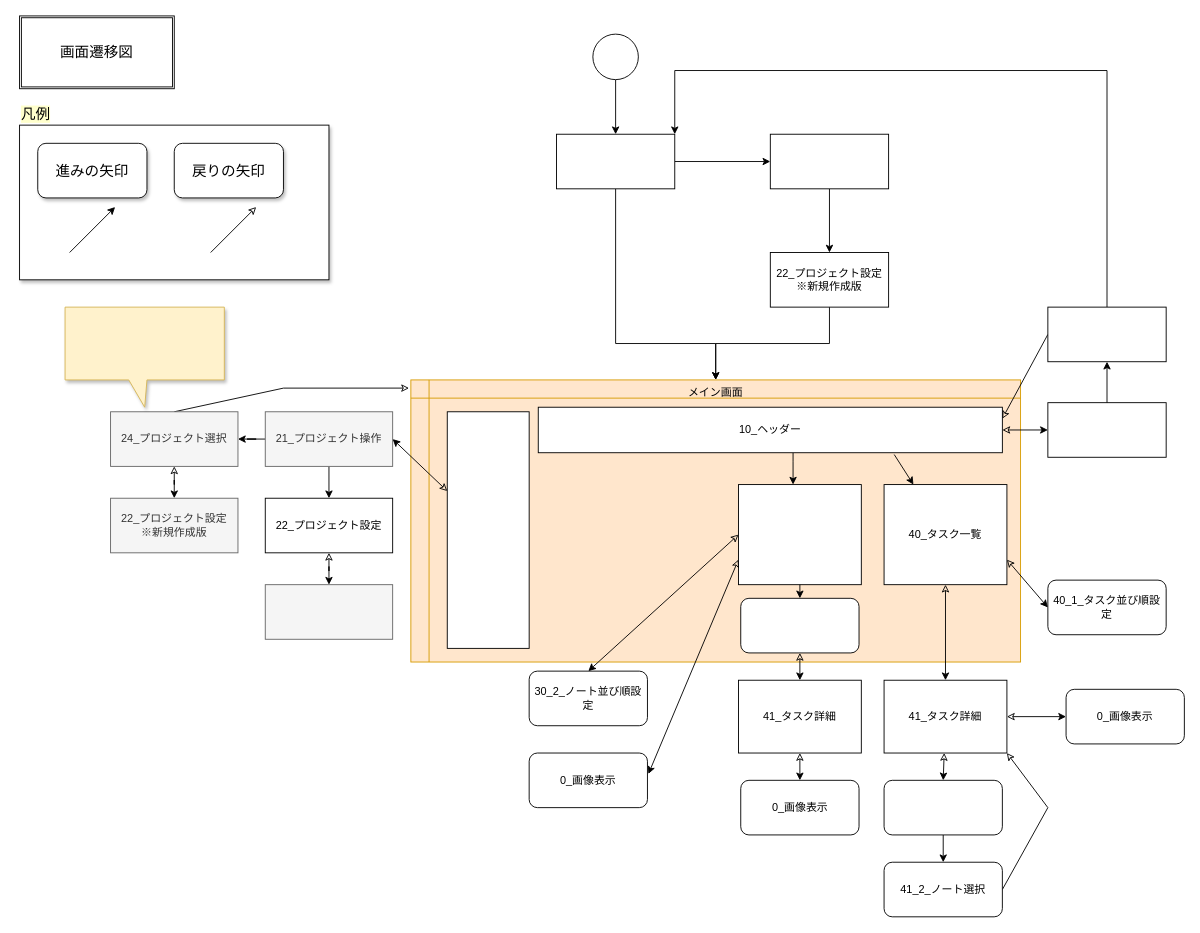
Image size: 1200x933. Some labels were removed from this diagram. The shapes that lost their labels are listed below. From the top down, each one's centre as x and y in pixels, then its label:
At pixel 615 161: "01_ログイン".
At pixel 829 161: "02_アカウント作成".
At pixel 1106 334: "11_ユーザー操作".
At pixel 145 358: "灰色は2次フェーズ行".
At pixel 1106 429: "12_ユーザー設定".
At pixel 487 529: "20_サイドバー".
At pixel 799 534: "30_ノート".
At pixel 328 611: "23_プロジェクトメンバー追加".
At pixel 799 625: "30_1_ノート詳細".
At pixel 942 807: "41_1_ノートフォルダ選択".
